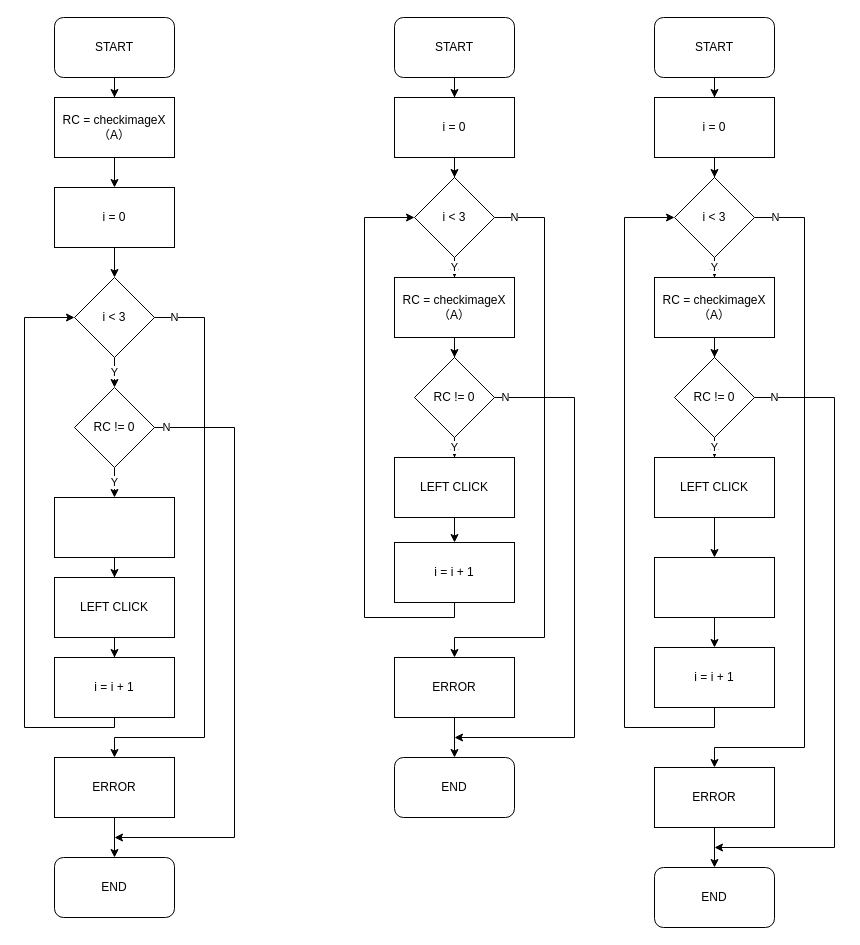
Some shapes in this 860 by 945 pixel diagram are drawn without their labels. The shapes that lost their labels are listed below. From the top down, each one's centre as x and y in pixels, then its label:
At (114,527): "RC = checkimageX （A or B）".
At (714,587): "RC = checkimageX （B）".
